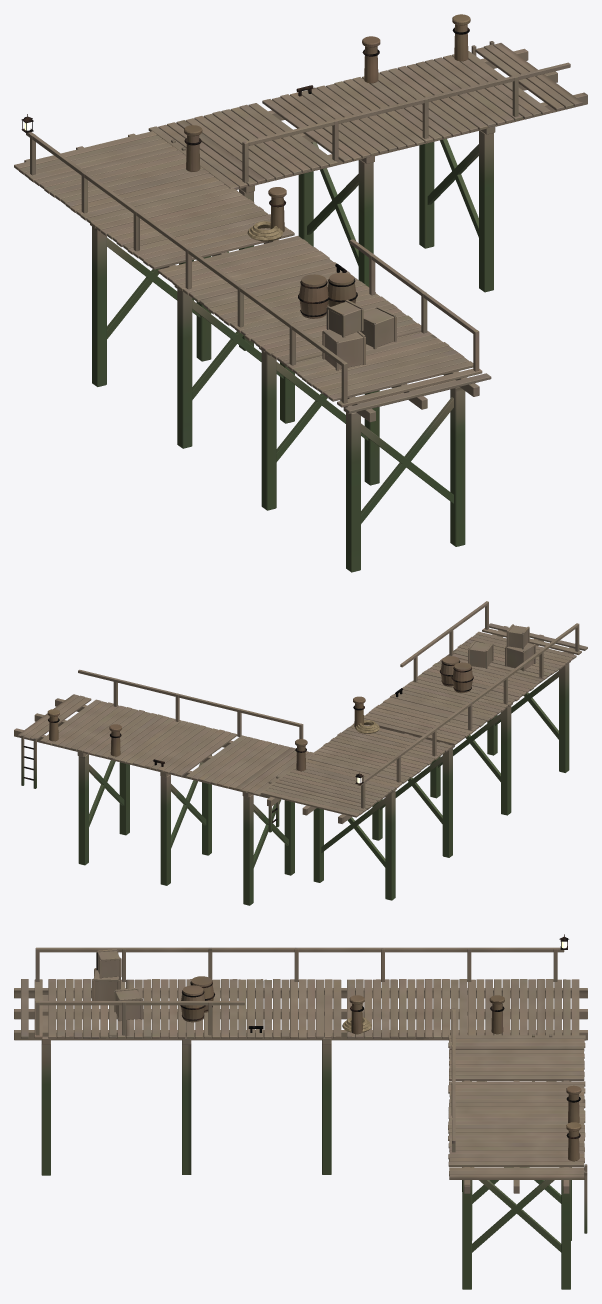
File: pier_l.glb
The picture shows the model from 3 angles, top to bottom: view 1: azimuth 30°, elevation 25°; view 2: azimuth 150°, elevation 25°; view 3: azimuth 270°, elevation 25°; orthographic projection. The views are drawn at different scales.
Parts seen in each view (by area): view 1: L_opaque; view 2: L_opaque; view 3: L_opaque.
Part boxes in pixels (bbox=[...]): L_opaque: bbox=[14, 14, 587, 572]; L_opaque: bbox=[14, 601, 587, 905]; L_opaque: bbox=[14, 934, 587, 1289].
Size of the model in its own units: 11.25 by 4.9 by 13.3.
Materials: 2 (1 with a texture image).
